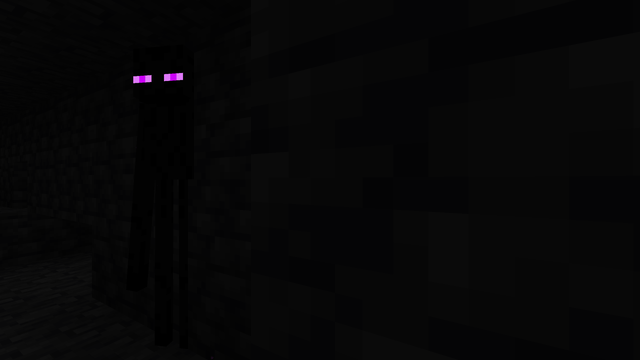endermens: (127, 26, 195, 357)
